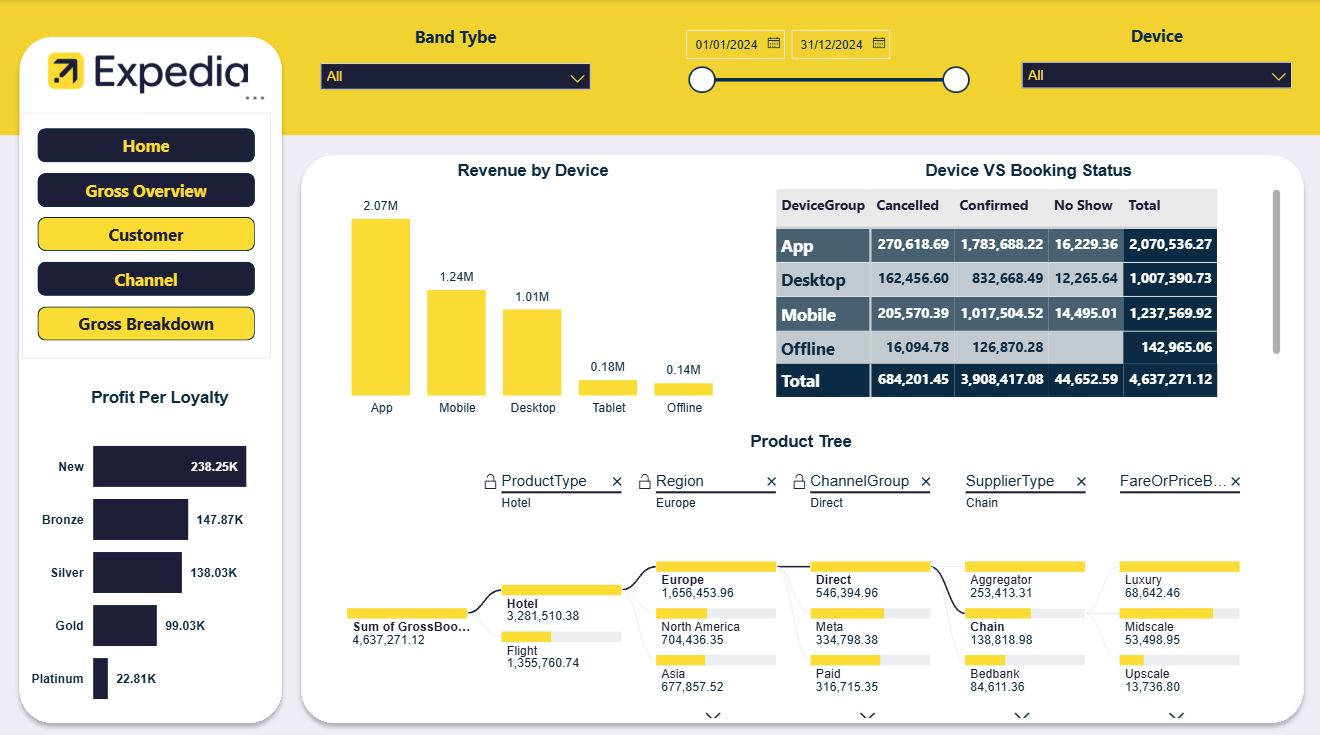

Layout of this report page (visuals, bound fields, positions):
{"tool":"powerbi","page":{"name":"Gross Breakdown","canvas":[1280,720],"ordinal":4},"visuals":[{"type":"decompositionTreeVisual","title":"Product Tree","fields":{"ExplainBy":["DimProduct.ProductType","Dim_Market.Region","Dim_Channel.ChannelGroup","DimProduct.SupplierType","DimProduct.FareOrPriceBand"],"Analyze":["Sum(Fact_Bookings.GrossBookingValueUSD)"]},"box":[296.8,401.7,956.7,306.4],"z":0},{"type":"columnChart","title":"Revenue by Device ","fields":{"Category":["DimDevice.DeviceGroup"],"Y":["Sum(Fact_Bookings.GrossBookingValueUSD)"]},"box":[296.8,139.9,439.1,279.9],"z":1000},{"type":"pivotTable","title":"Device VS Booking Status ","fields":{"Rows":["DimDevice.DeviceGroup"],"Columns":["Fact_Bookings.BookingStatus"],"Values":["Sum(Fact_Bookings.GrossBookingValueUSD)"]},"box":[735.9,139.9,517.6,258.2],"z":2000},{"type":"slicer","fields":{"Values":["Fact_Bookings.BookingDate"]},"box":[656.3,24.1,284.7,82],"z":3000},{"type":"slicer","title":"Device","fields":{"Values":["DimDevice.DeviceGroup"]},"box":[983.2,22.9,270.2,83.2],"z":4000},{"type":"barChart","title":"Profit Per Loyalty","fields":{"Category":["Dim_Customer.LoyaltyTier"],"Y":["Sum(Fact_Bookings.NetMarginUSD)"]},"box":[15.7,359.5,281.1,352.3],"z":5000},{"type":"slicer","title":"Band Tybe","fields":{"Values":["DimProduct.FareOrPriceBand"]},"box":[306.4,24.1,270.2,83.2],"z":6000},{"type":"image","box":[32.6,27.7,224.4,80.8],"z":7000},{"type":"pageNavigator","box":[22.9,108.6,240.1,237.7],"z":8000}]}

Visuals, with their boxes in screenshot pixels (x1, y1, x2, y2), scaled from the page's 1280x720 canvas onto the 1320x735 screenshot:
"Product Tree" decompositionTreeVisual: 306 410 1293 723
"Revenue by Device " columnChart: 306 143 759 429
"Device VS Booking Status " pivotTable: 759 143 1293 406
slicer - Fact_Bookings.BookingDate: 677 25 970 108
"Device" slicer: 1014 23 1293 108
"Profit Per Loyalty" barChart: 16 367 306 727
"Band Tybe" slicer: 316 25 595 110
image: 34 28 265 111
pageNavigator: 24 111 271 354
